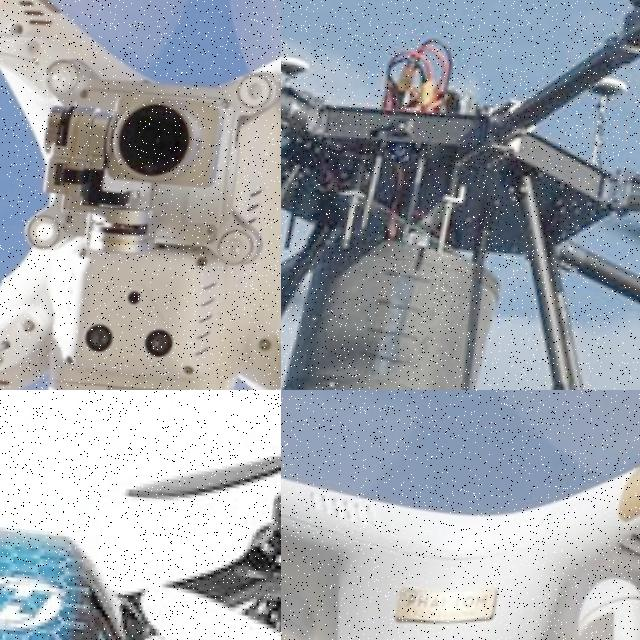drone: (281, 0, 640, 390), (0, 0, 281, 390), (281, 390, 640, 640), (0, 390, 281, 640)
